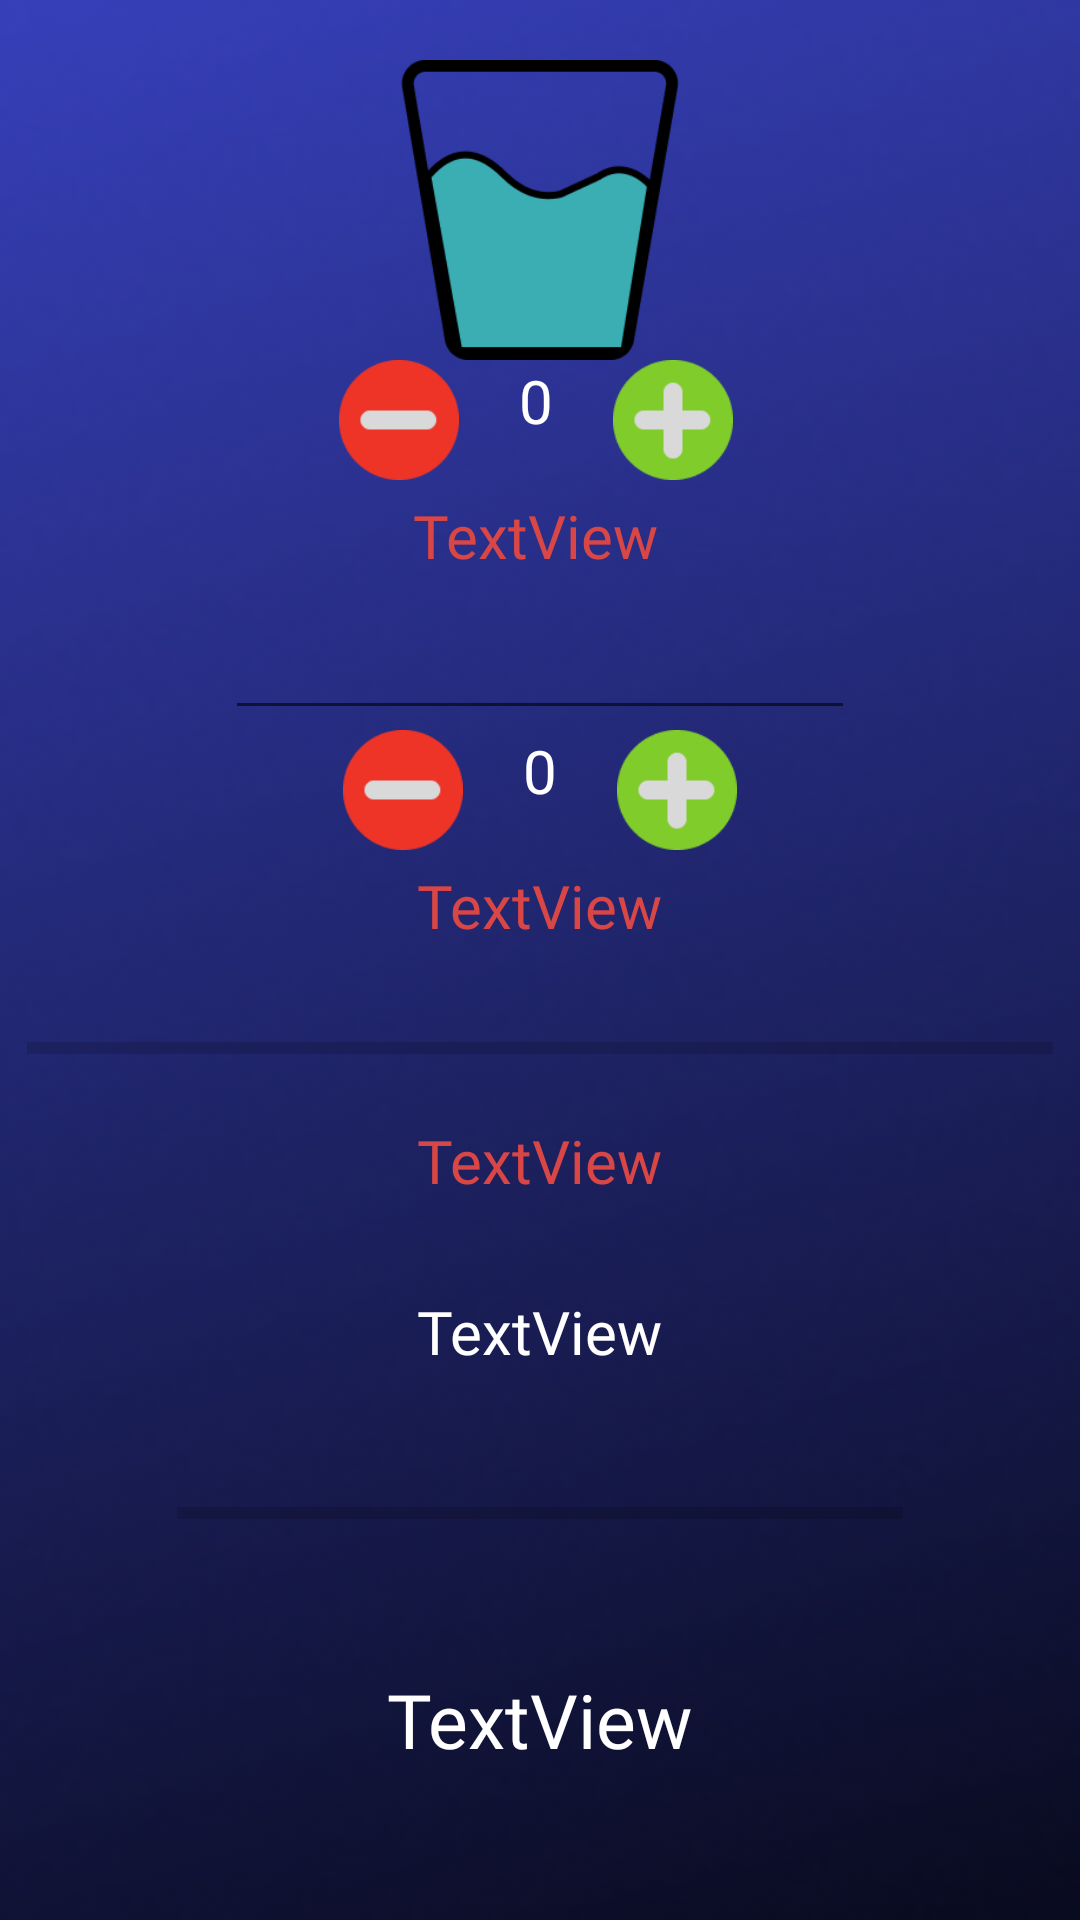

Screen size 1080px×1920px. Icon name, then its center in pixels as point (x, y):
glass: point (545, 210)
minus: point (399, 420), point (403, 790)
plus: point (673, 420), point (677, 790)
